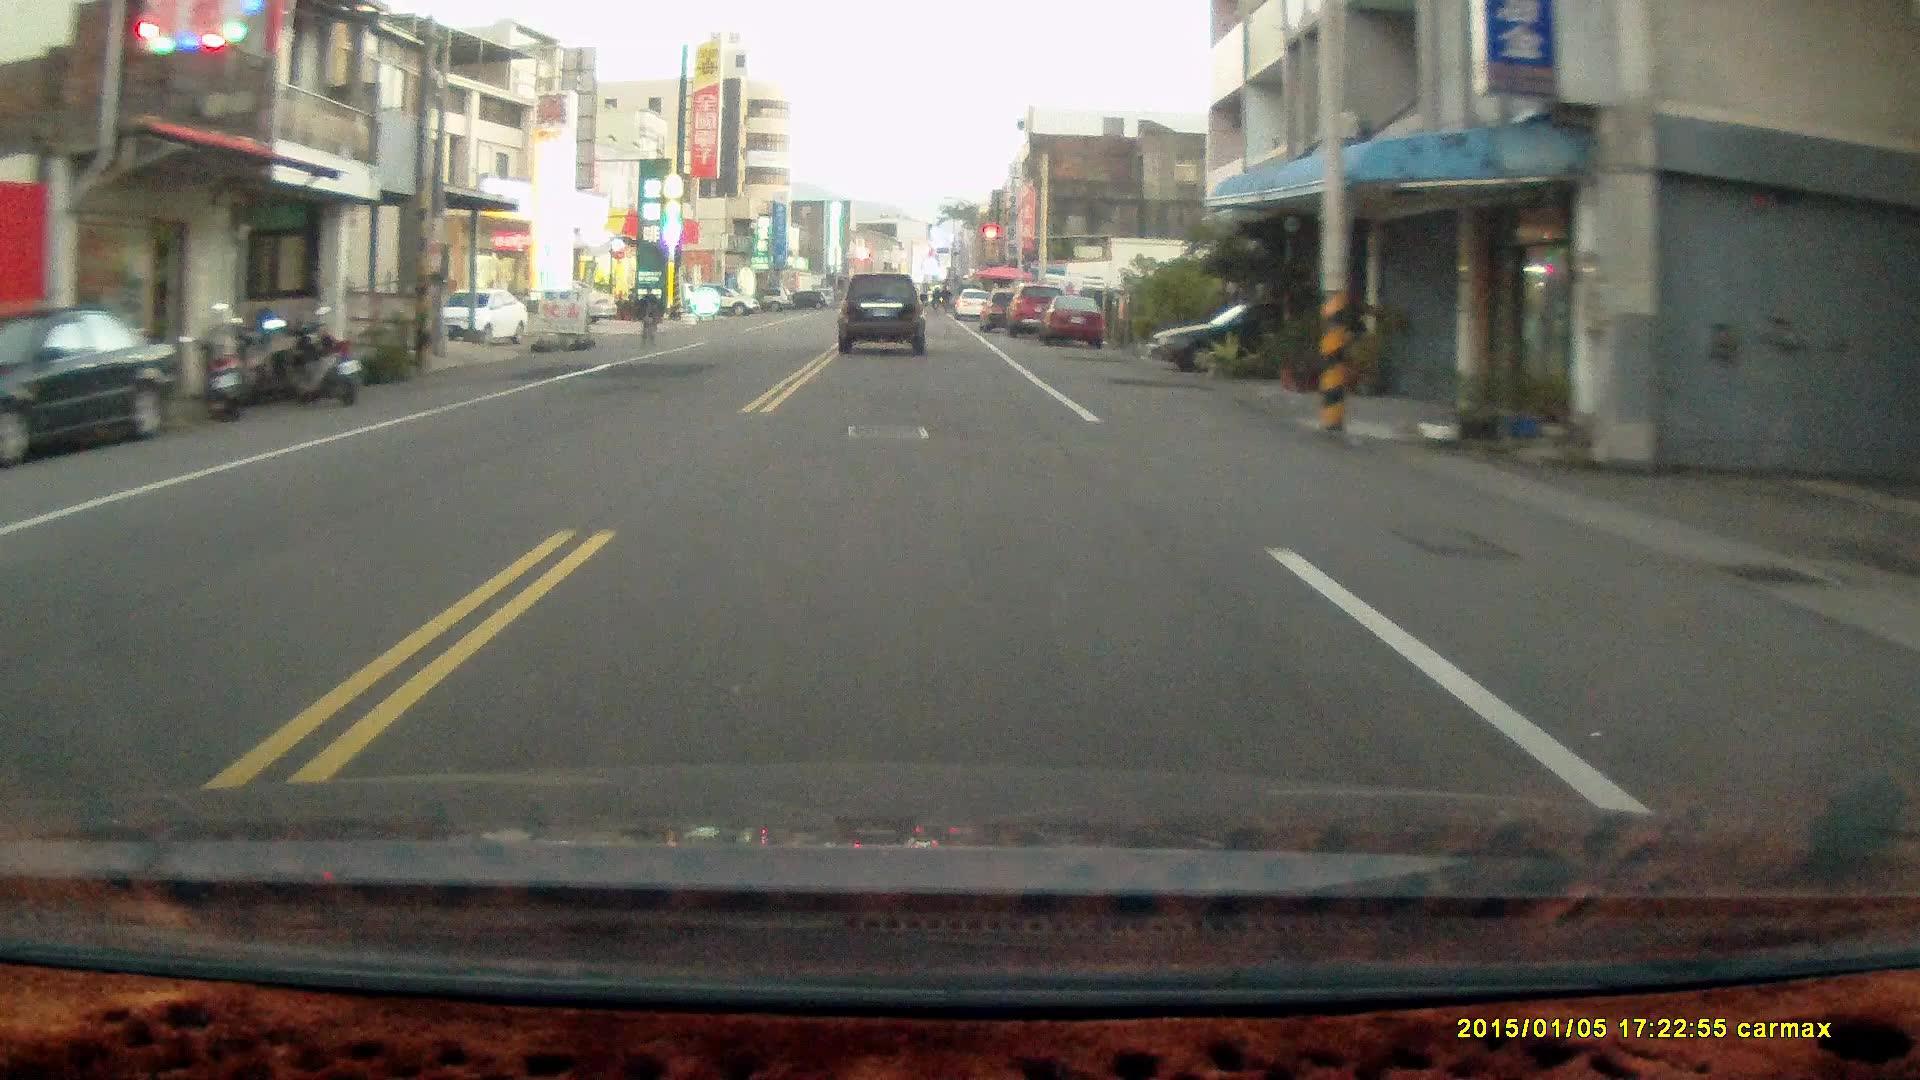rider: (635, 283, 661, 351)
vehicle: (1, 303, 184, 471), (1145, 307, 1330, 371), (837, 270, 931, 357), (436, 287, 529, 345), (1036, 293, 1104, 346)
